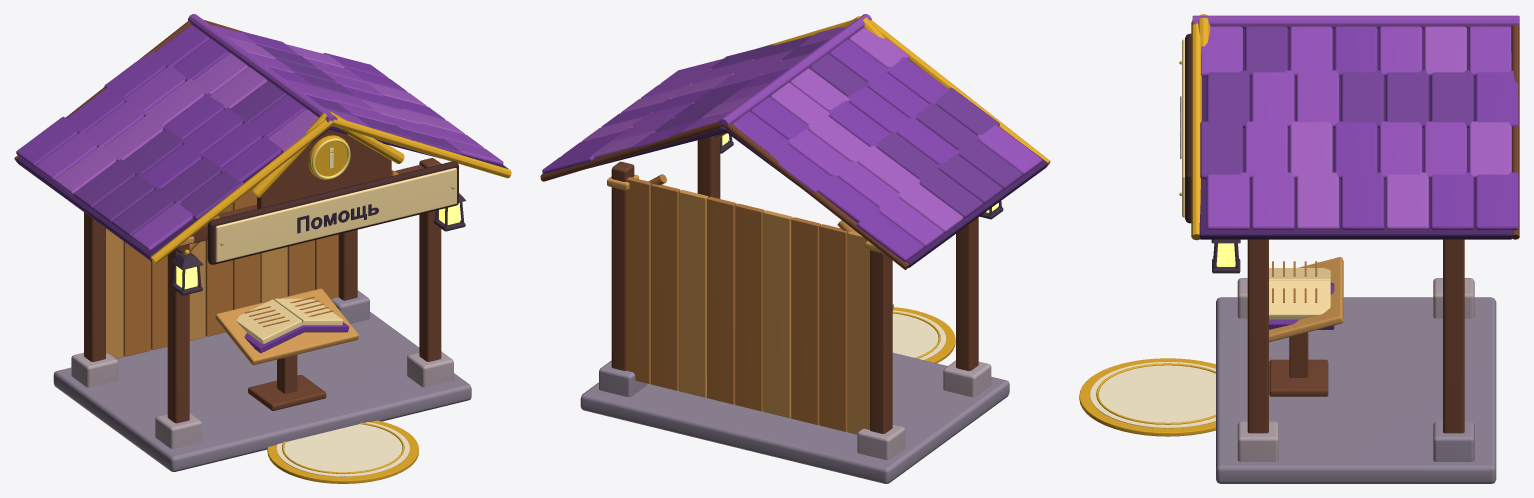
Rendered from Pavilion_Help.glb.
The picture shows the model from 3 angles, left to right: view 1: azimuth 30°, elevation 25°; view 2: azimuth 150°, elevation 25°; view 3: azimuth 270°, elevation 25°; orthographic projection. The views are drawn at different scales.
Visible parts, largest first — view 1: Pavilion_Help__Structure, Pavilion_Help__Roof, Pavilion_Help__SignFrame, Pavilion_Help__DisplayProps, Pavilion_Help__Marker, Pavilion_Help__Emblem, Pavilion_Help__Fixtures, Pavilion_Help__SignText, Pavilion_Help__Glow; view 2: Pavilion_Help__Structure, Pavilion_Help__Roof, Pavilion_Help__Marker; view 3: Pavilion_Help__Roof, Pavilion_Help__Structure, Pavilion_Help__Marker, Pavilion_Help__DisplayProps, Pavilion_Help__SignFrame, Pavilion_Help__Fixtures.
Boxes of the visible parts, left/top/right/bottom form: Pavilion_Help__Structure: left=53, top=158, right=471, bottom=471; Pavilion_Help__Roof: left=14, top=14, right=511, bottom=263; Pavilion_Help__SignFrame: left=207, top=161, right=458, bottom=264; Pavilion_Help__DisplayProps: left=215, top=288, right=358, bottom=410; Pavilion_Help__Marker: left=267, top=420, right=418, bottom=483; Pavilion_Help__Emblem: left=308, top=135, right=350, bottom=179; Pavilion_Help__Fixtures: left=170, top=193, right=465, bottom=295; Pavilion_Help__SignText: left=297, top=204, right=378, bottom=233; Pavilion_Help__Glow: left=176, top=202, right=460, bottom=289; Pavilion_Help__Structure: left=580, top=132, right=1009, bottom=483; Pavilion_Help__Roof: left=540, top=14, right=1050, bottom=269; Pavilion_Help__Marker: left=892, top=307, right=955, bottom=363; Pavilion_Help__Roof: left=1191, top=14, right=1519, bottom=240; Pavilion_Help__Structure: left=1216, top=239, right=1496, bottom=483; Pavilion_Help__Marker: left=1079, top=358, right=1215, bottom=436; Pavilion_Help__DisplayProps: left=1269, top=257, right=1343, bottom=396; Pavilion_Help__SignFrame: left=1179, top=33, right=1191, bottom=223; Pavilion_Help__Fixtures: left=1211, top=239, right=1240, bottom=273.
Bounding box in the file's own units: 13.14 × 11.49 × 11.93.
